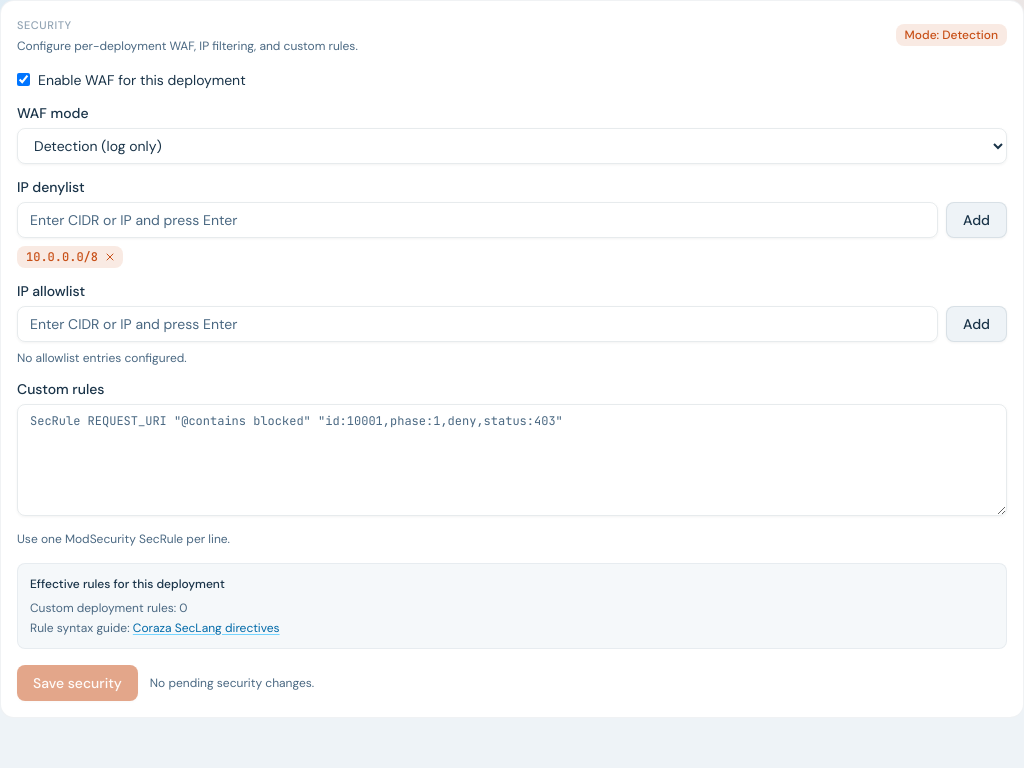
Test: DeploymentSecurityPanel › removes an existing denylist entry when clicking chip remove
Click the button named "Remove 10.0.0.0/8" at coordinates (110, 256), box [102,248,118,264]
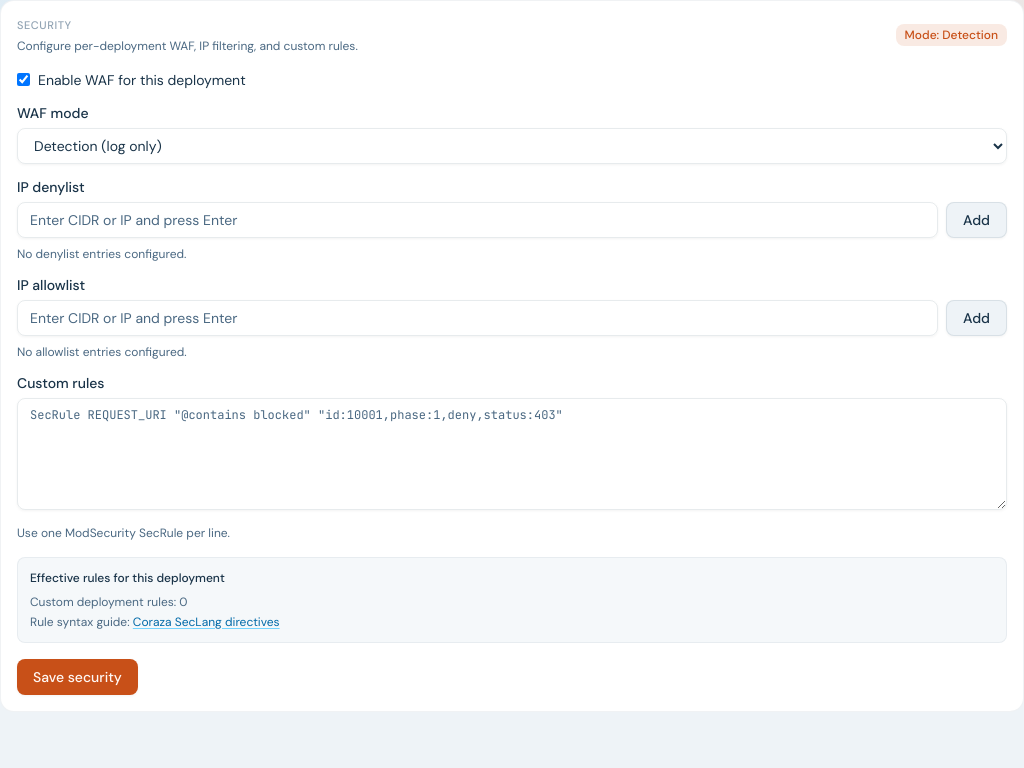
Expected: the text "10.0.0.0/8" is gone
